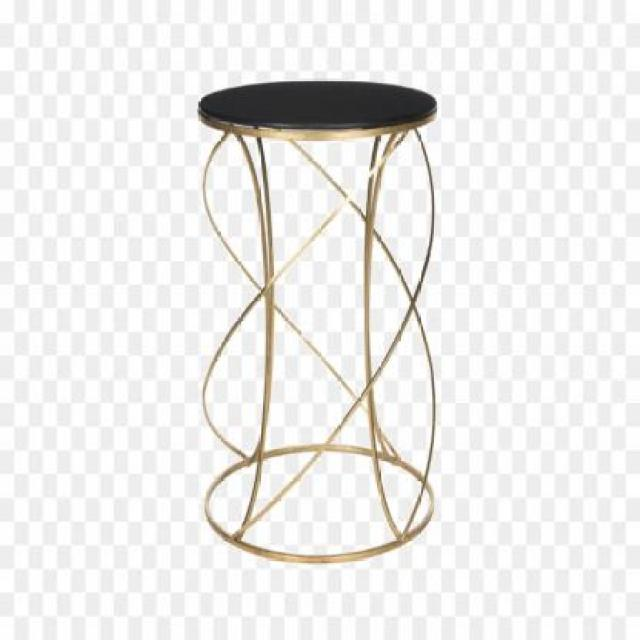table: (195, 78, 437, 564)
